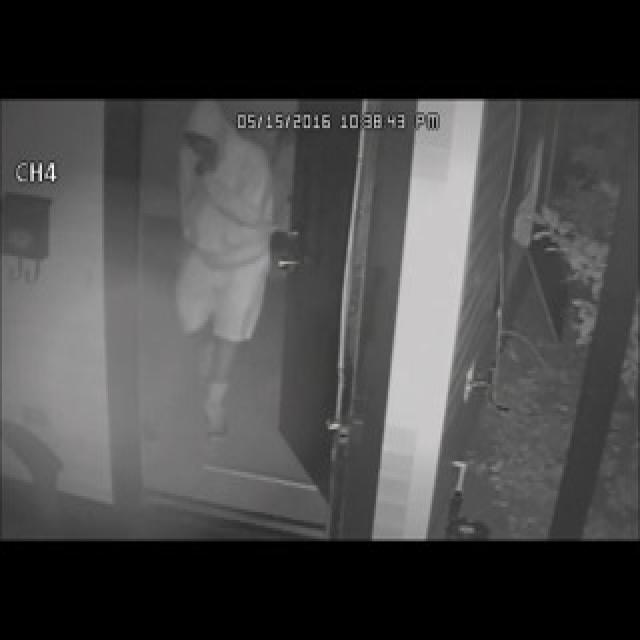thief: (162, 104, 277, 370)
